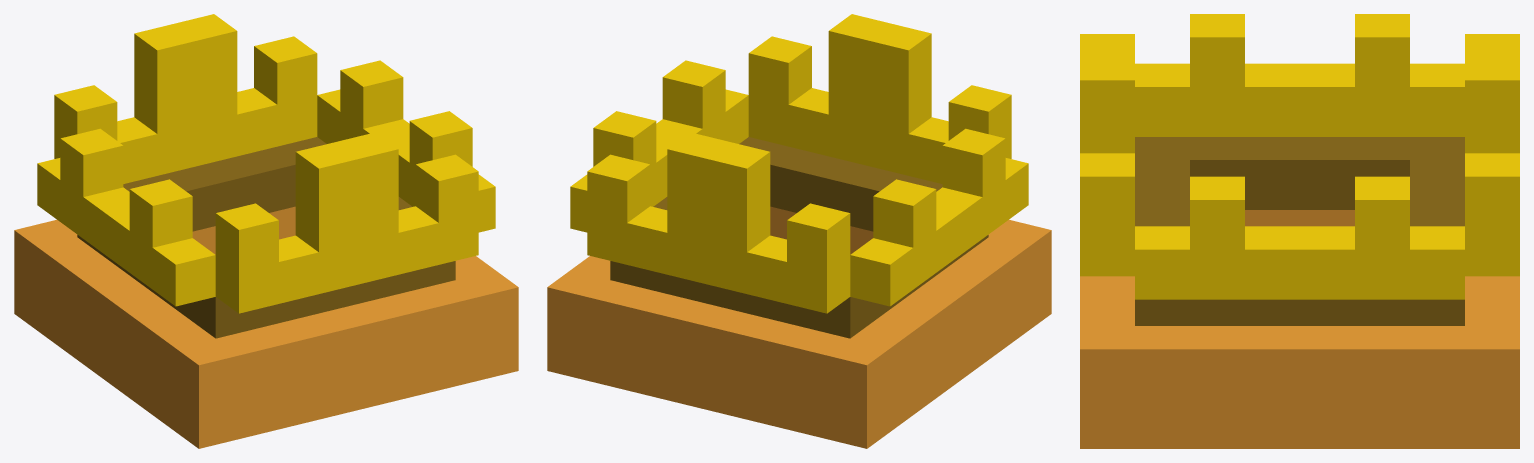
File: Crown.obj
The picture shows the model from 3 angles, left to right: view 1: azimuth 30°, elevation 25°; view 2: azimuth 150°, elevation 25°; view 3: azimuth 270°, elevation 25°; orthographic projection. The views are drawn at different scales.
Size of the model in its own units: 0.8 by 0.6 by 0.8.
Materials: 1 (1 with a texture image).
